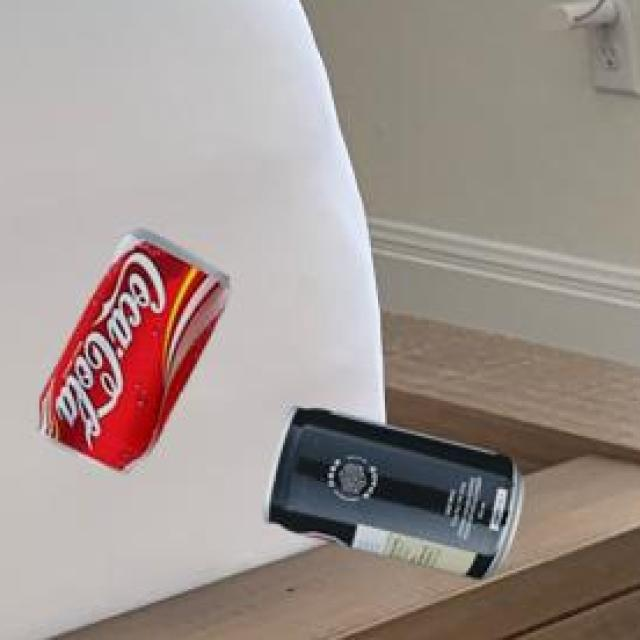logam: (36, 226, 226, 470), (261, 405, 521, 576)
